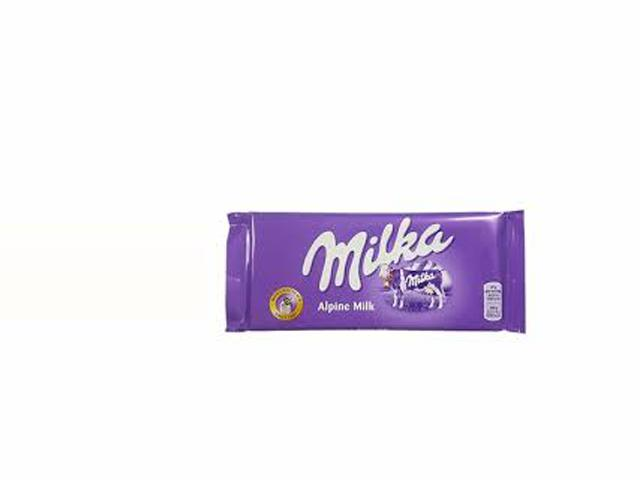chocolate: (222, 203, 541, 347)
